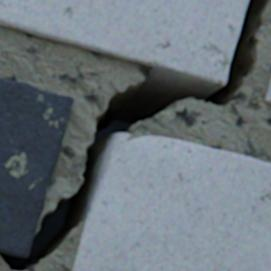brick: (72, 136, 270, 270), (0, 0, 247, 86), (0, 79, 73, 257), (264, 74, 270, 104)
crack: (0, 0, 270, 270)
